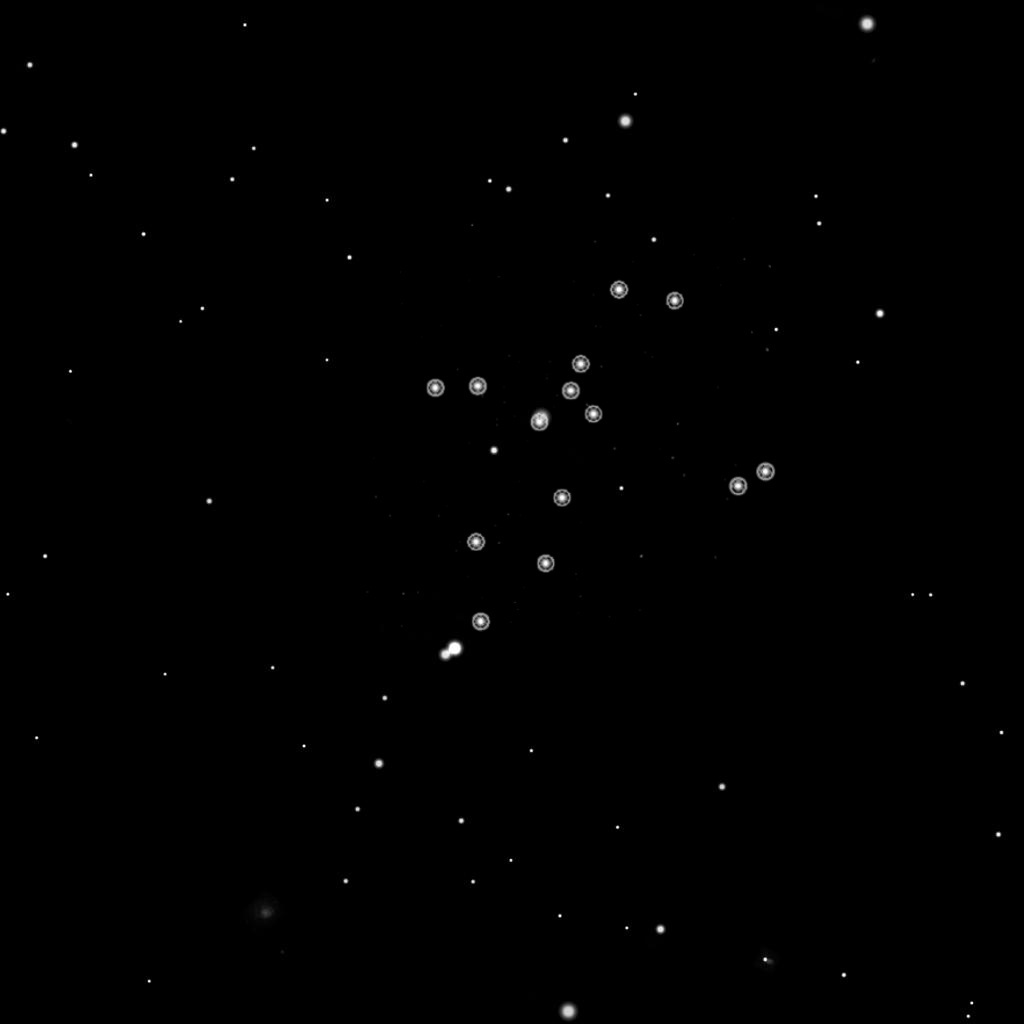canis_major: (524, 270, 690, 442)
